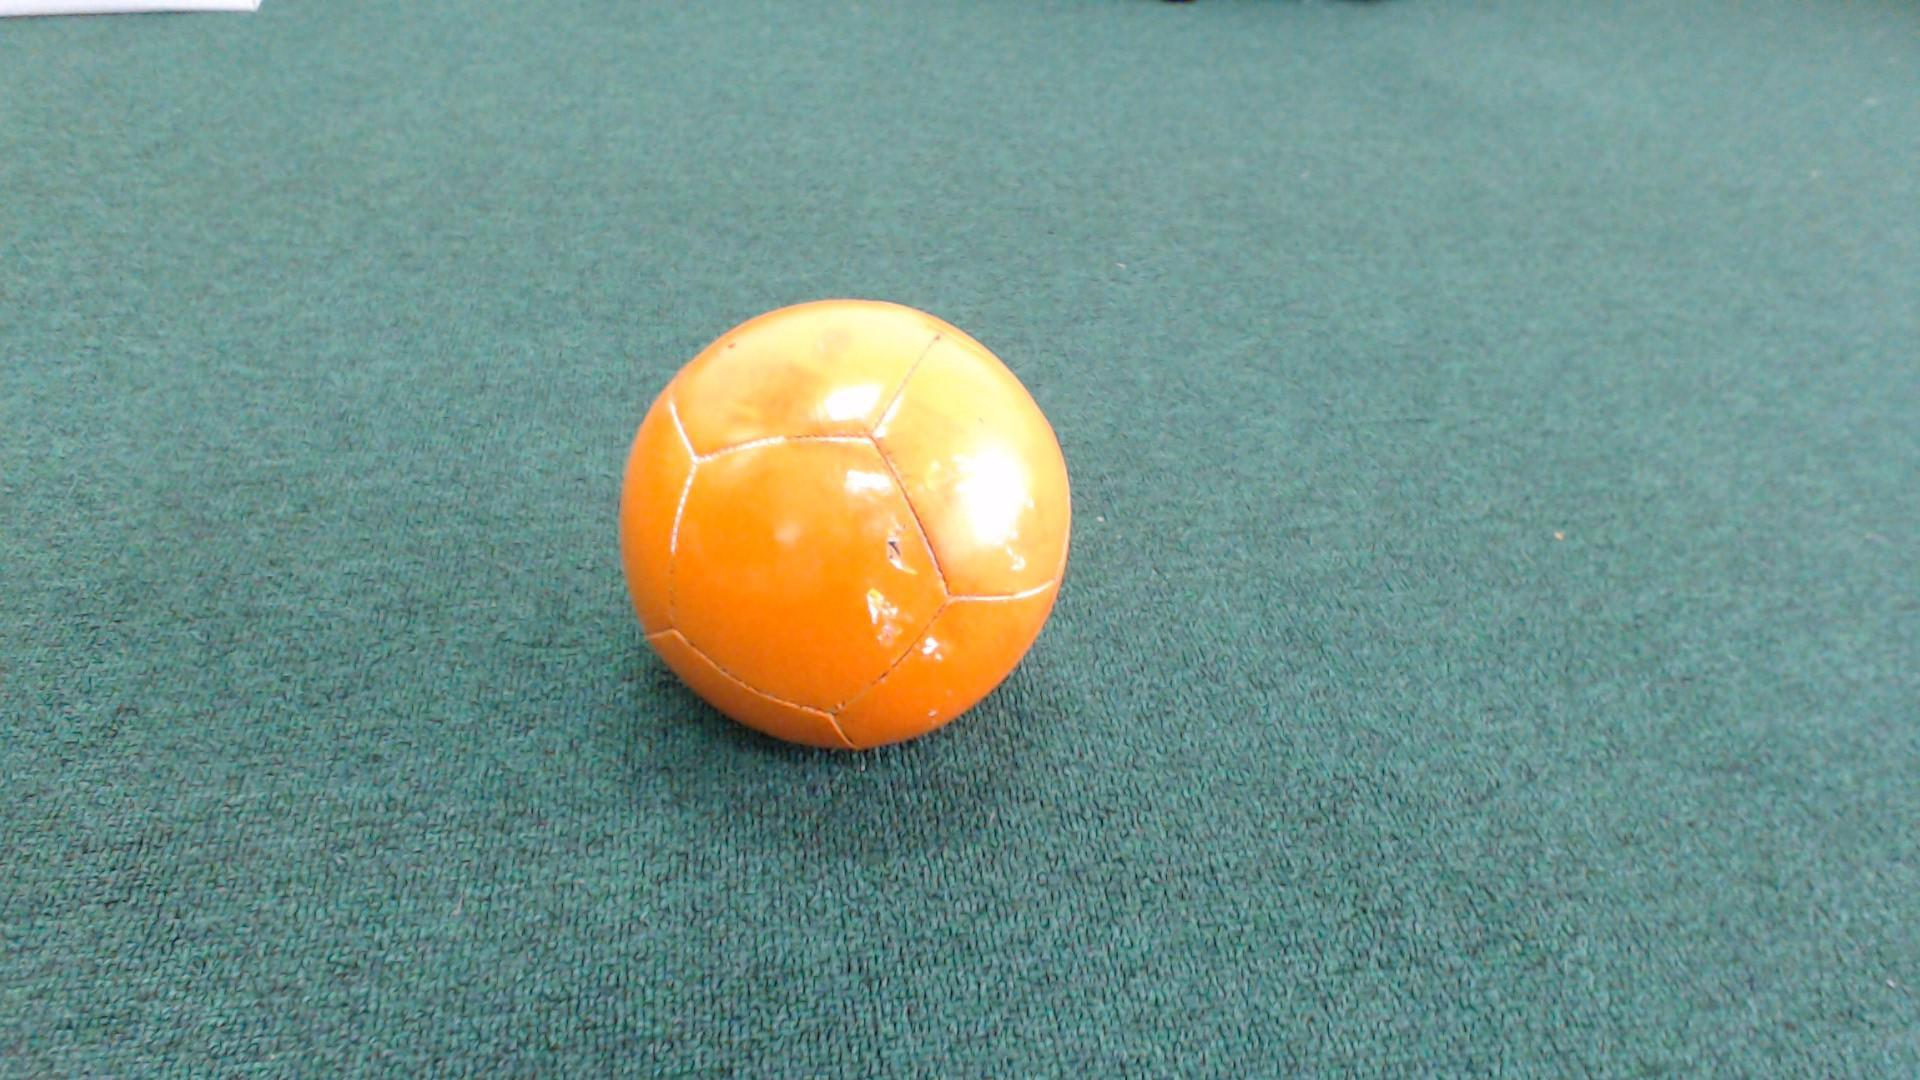bola: (575, 252, 1131, 811)
